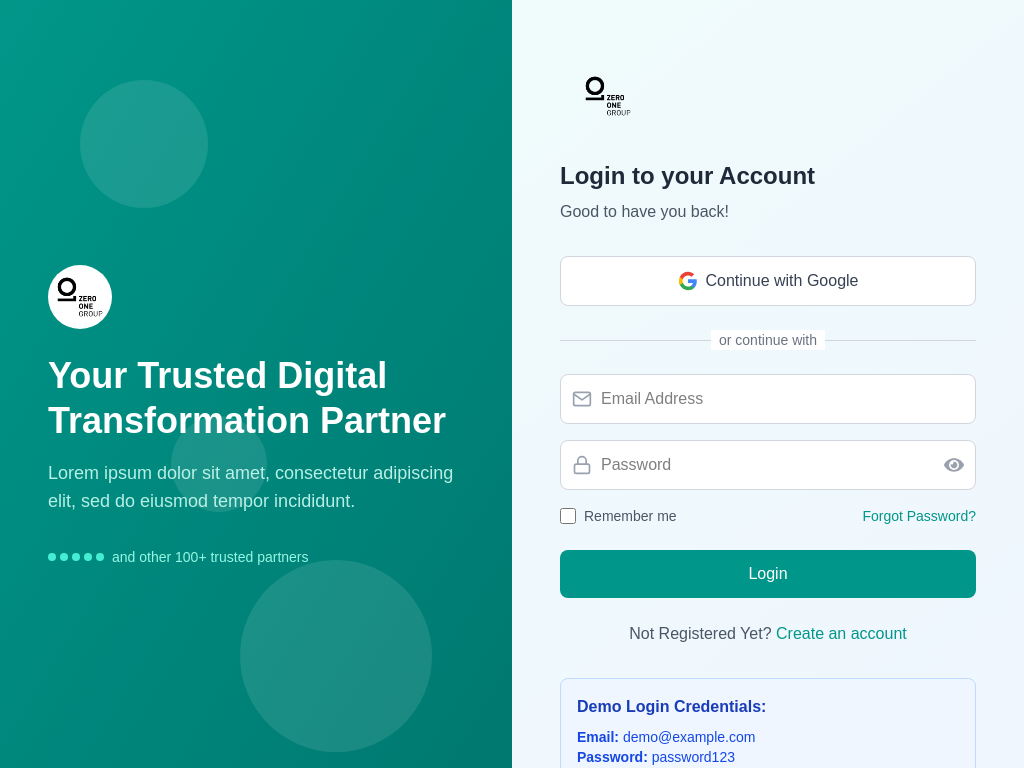
Authentication Flow › should show validation errors for empty form submission
The width and height of the screenshot is (1024, 768).
Click the submit button at [768, 574], box [560,550,976,598]
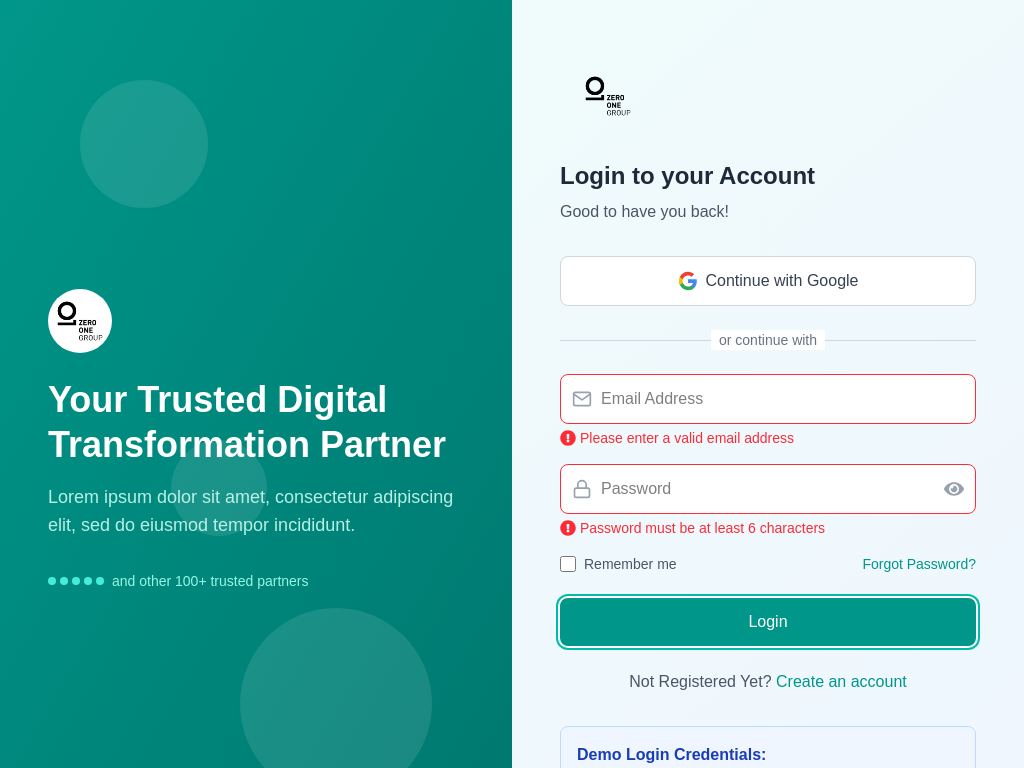
Expected: the message "Please enter a valid email address" is shown, [560,430,794,446]
